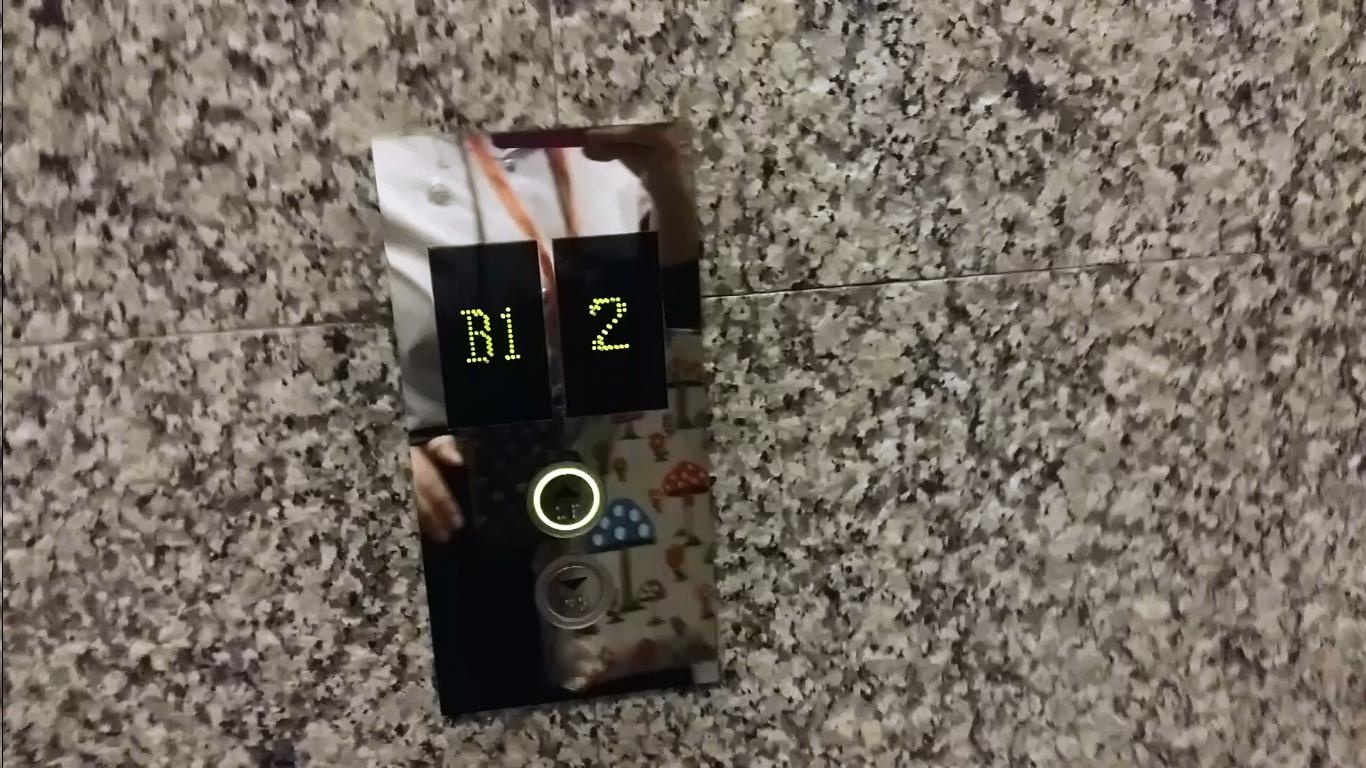2: (545, 228, 669, 422)
B1: (423, 233, 561, 431)
down: (529, 549, 615, 637)
up: (521, 454, 607, 542)
